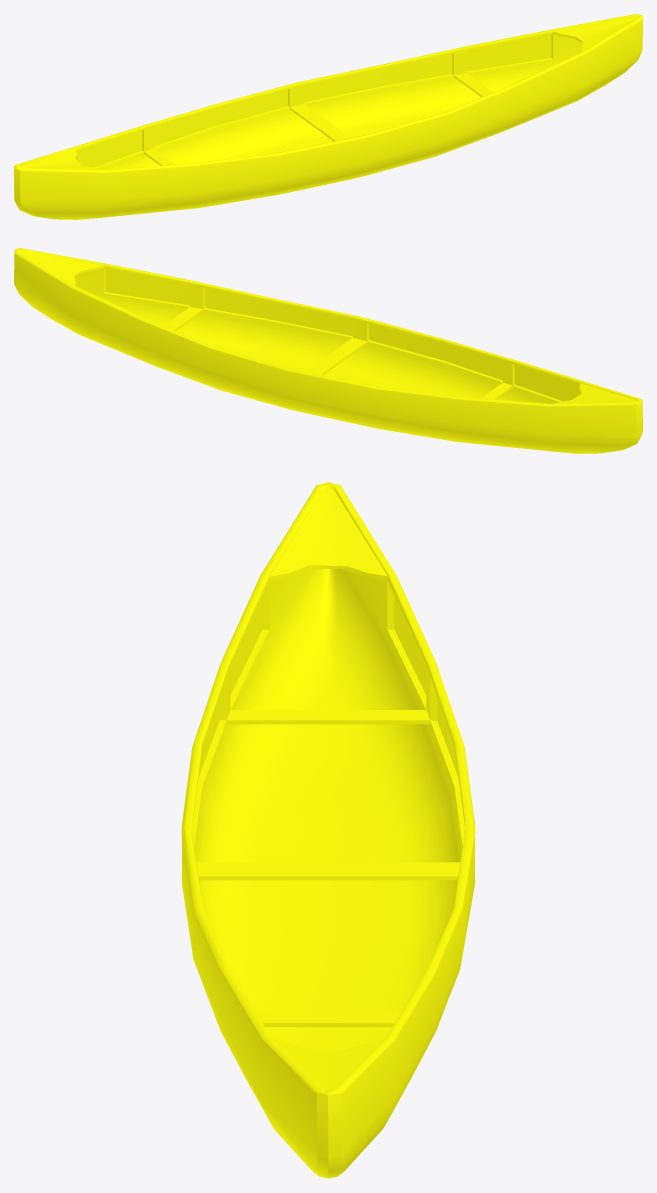
The model's file is SM_Boat_Wooden_Canoe_with_Paddle.glb.
The picture shows the model from 3 angles, top to bottom: view 1: azimuth 30°, elevation 25°; view 2: azimuth 150°, elevation 25°; view 3: azimuth 270°, elevation 25°; orthographic projection. The views are drawn at different scales.
Visible parts, largest first — view 1: SM_Boat_Wooden_Canoe_with_Paddle; view 2: SM_Boat_Wooden_Canoe_with_Paddle; view 3: SM_Boat_Wooden_Canoe_with_Paddle.
Boxes of the visible parts, x1,y1,x2,y2 form: SM_Boat_Wooden_Canoe_with_Paddle: (14,14,642,219); SM_Boat_Wooden_Canoe_with_Paddle: (14,248,642,453); SM_Boat_Wooden_Canoe_with_Paddle: (181,482,475,1178).
Bounding box in the file's own units: 4.13 × 0.4366 × 0.8357.
Materials: 4 (4 with a texture image).
